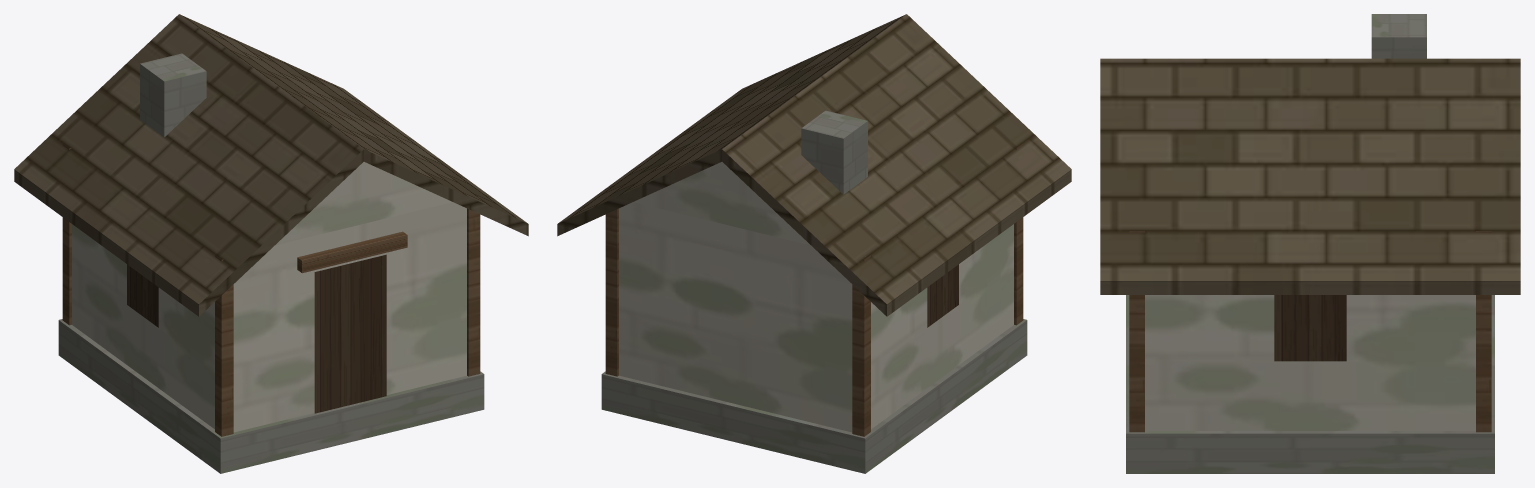
The model's file is ae_forest_stone_small_hut_lod1.glb.
3 views of the same model, side by side, from view 1: azimuth 30°, elevation 25°; view 2: azimuth 150°, elevation 25°; view 3: azimuth 270°, elevation 25° (orthographic). The views are drawn at different scales.
Visible parts, largest first — view 1: ae_forest_stone_small_hut_lod1; view 2: ae_forest_stone_small_hut_lod1; view 3: ae_forest_stone_small_hut_lod1.
Boxes of the visible parts, x1=… form: ae_forest_stone_small_hut_lod1: x1=14, y1=14, x2=528, y2=473; ae_forest_stone_small_hut_lod1: x1=557, y1=14, x2=1071, y2=473; ae_forest_stone_small_hut_lod1: x1=1100, y1=14, x2=1520, y2=473.
Size of the model in its own units: 3.9 by 3.4 by 3.78.
1 material, 1 textured.
